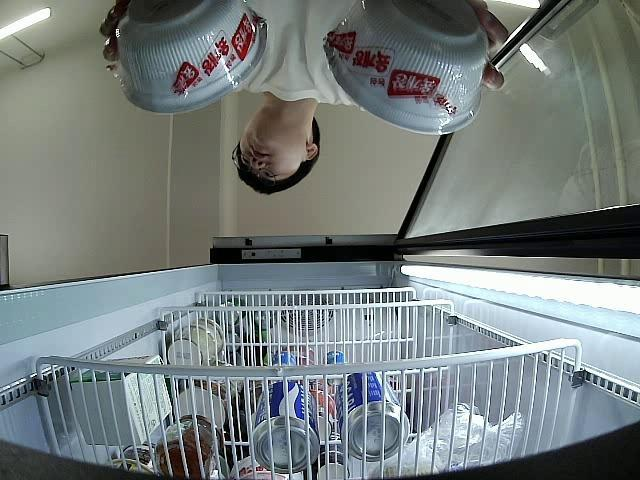09_yukGaeJang: (322, 0, 483, 135), (111, 0, 266, 117)
